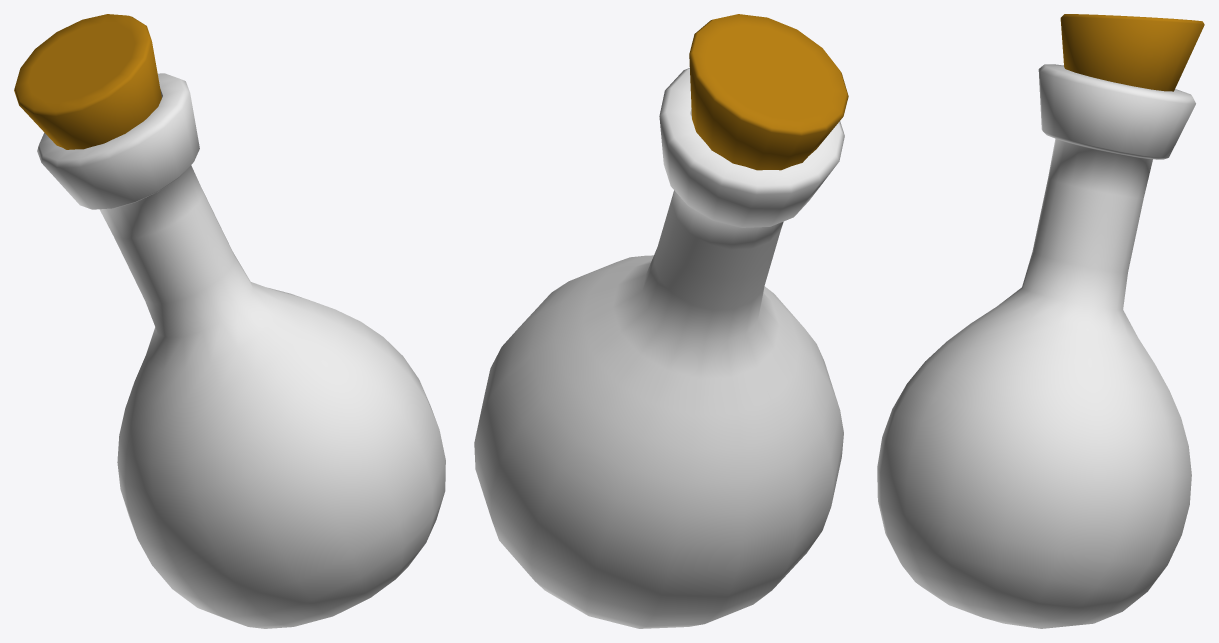
3 renders of one model, left to right at view 1: azimuth 30°, elevation 25°; view 2: azimuth 150°, elevation 25°; view 3: azimuth 270°, elevation 25°, orthographic. The views are drawn at different scales.
Visible parts, largest first — view 1: 2B-L, 1B-L; view 2: 2B-L, 1B-L; view 3: 2B-L, 1B-L.
Part boxes in pixels (x1=…): 2B-L: x1=37, y1=73, x2=445, y2=628; 1B-L: x1=14, y1=14, x2=161, y2=149; 2B-L: x1=474, y1=68, x2=844, y2=628; 1B-L: x1=689, y1=14, x2=848, y2=170; 2B-L: x1=877, y1=64, x2=1195, y2=628; 1B-L: x1=1060, y1=14, x2=1204, y2=91.
Size of the model in its own units: 8.18 by 12.99 by 6.91.
